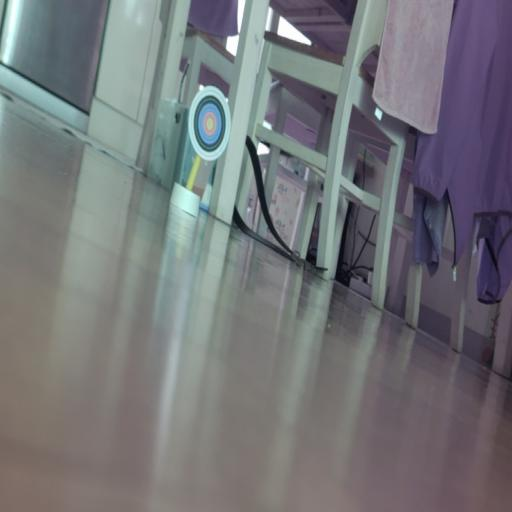target: (188, 86, 231, 160)
